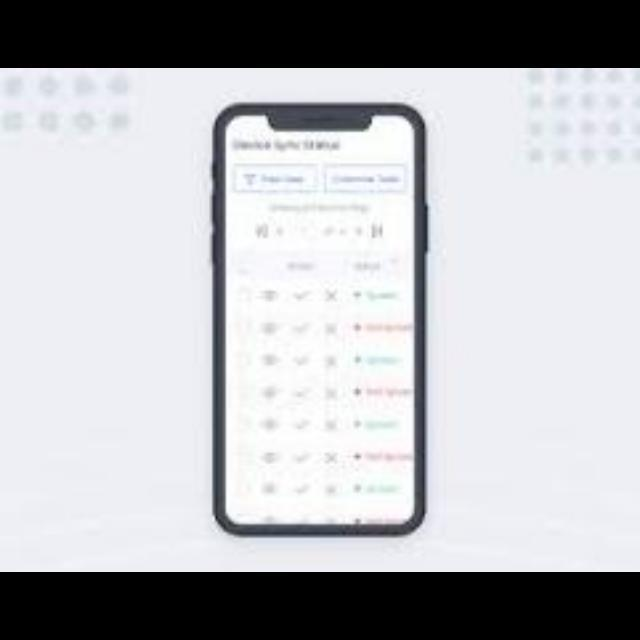phone: (215, 95, 427, 535)
